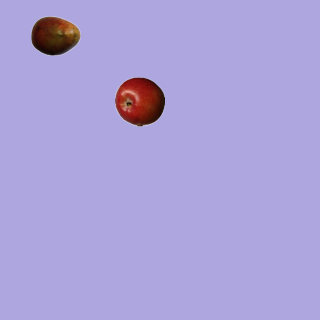Apple Braeburn: (114, 76, 164, 126)
Mango Red: (30, 10, 80, 60)
